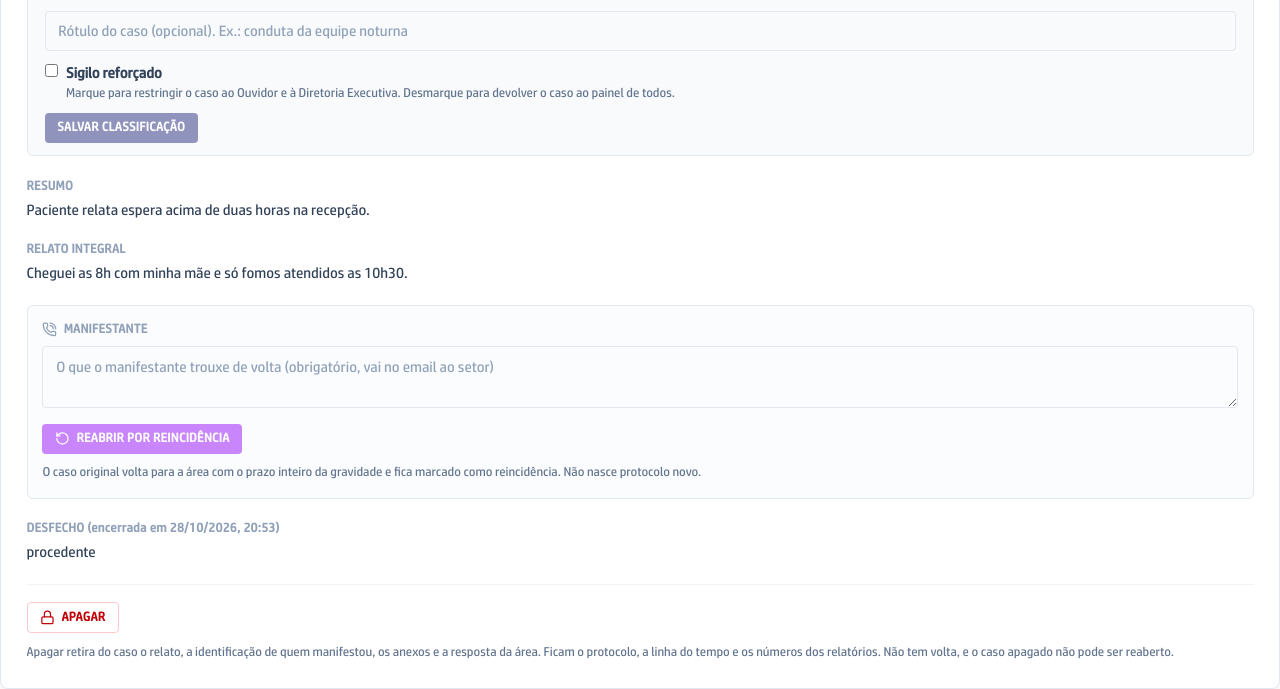
a confirmação com motivo obrigatório (issue #595) › o aviso do ato continua legível depois de o botão sair da tela
(page scrolled)
Click the button "Apagar". click: (73, 617)
box: [26, 602, 119, 633]
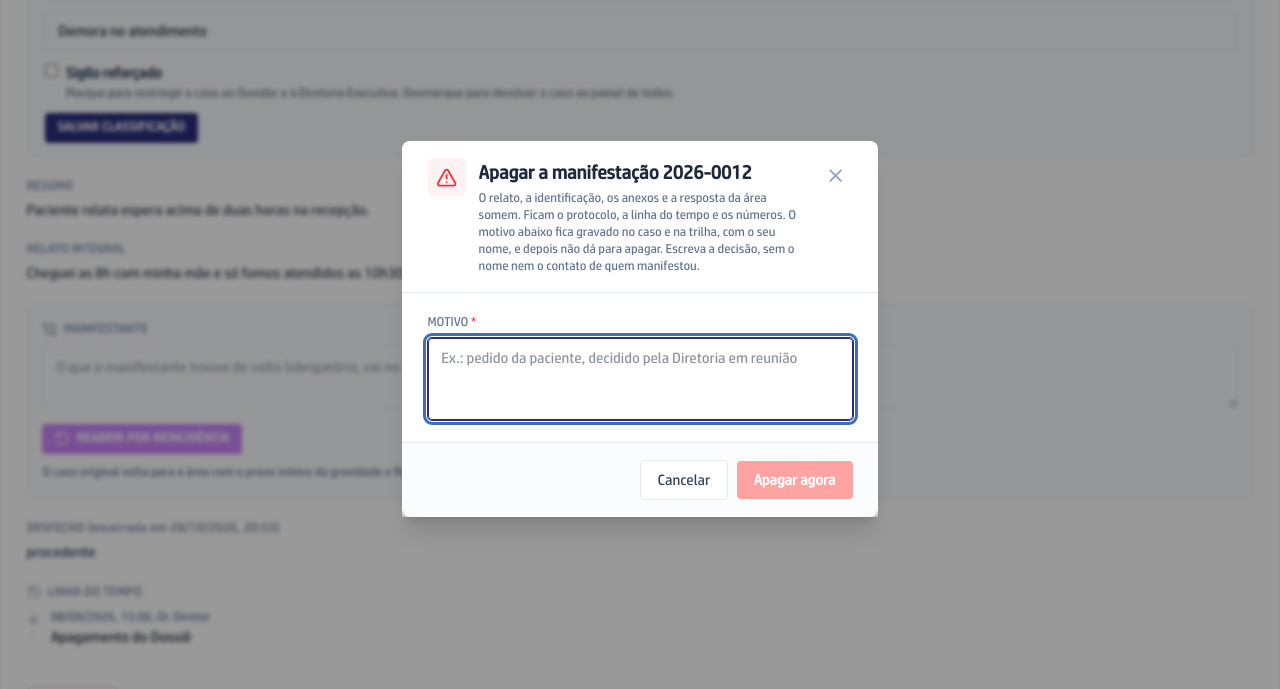
Type "Pedido da paciente, com decisão da Diretoria em 08/09/2026." into the text box labelled "Motivo *". click: (640, 379)
box: [428, 338, 852, 420]
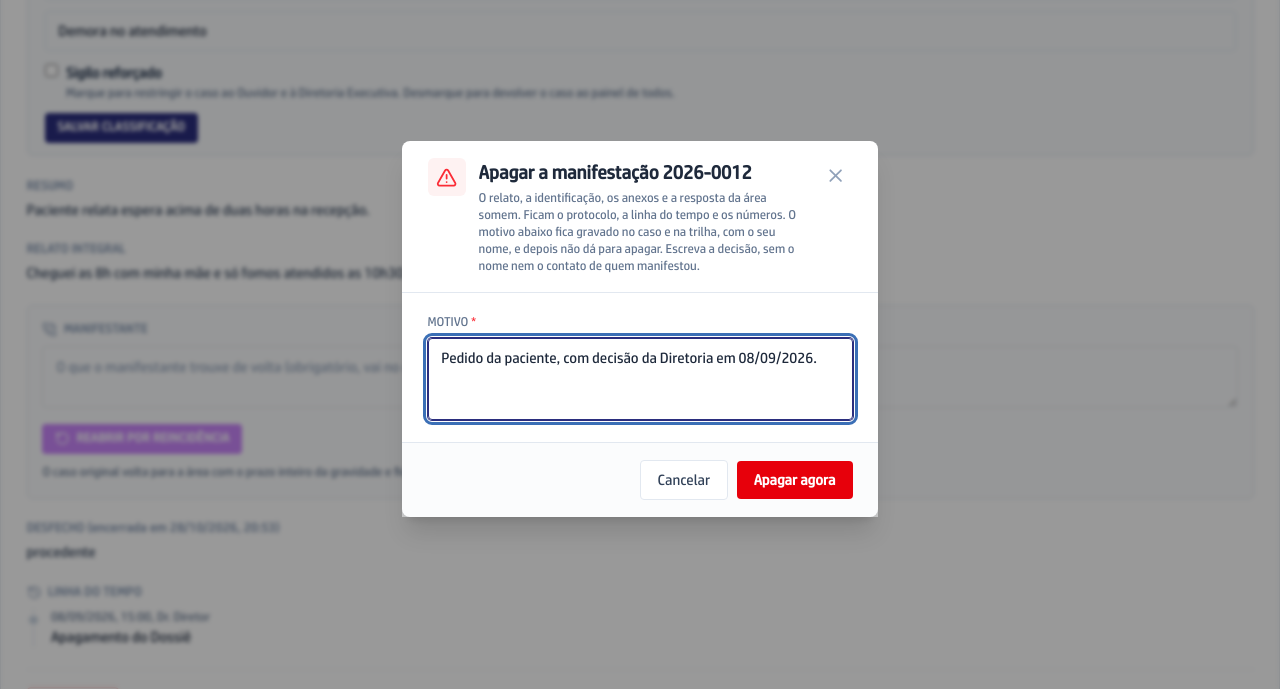
Click the button "Apagar agora". click: (795, 480)
box: [737, 461, 852, 499]
(page scrolled)
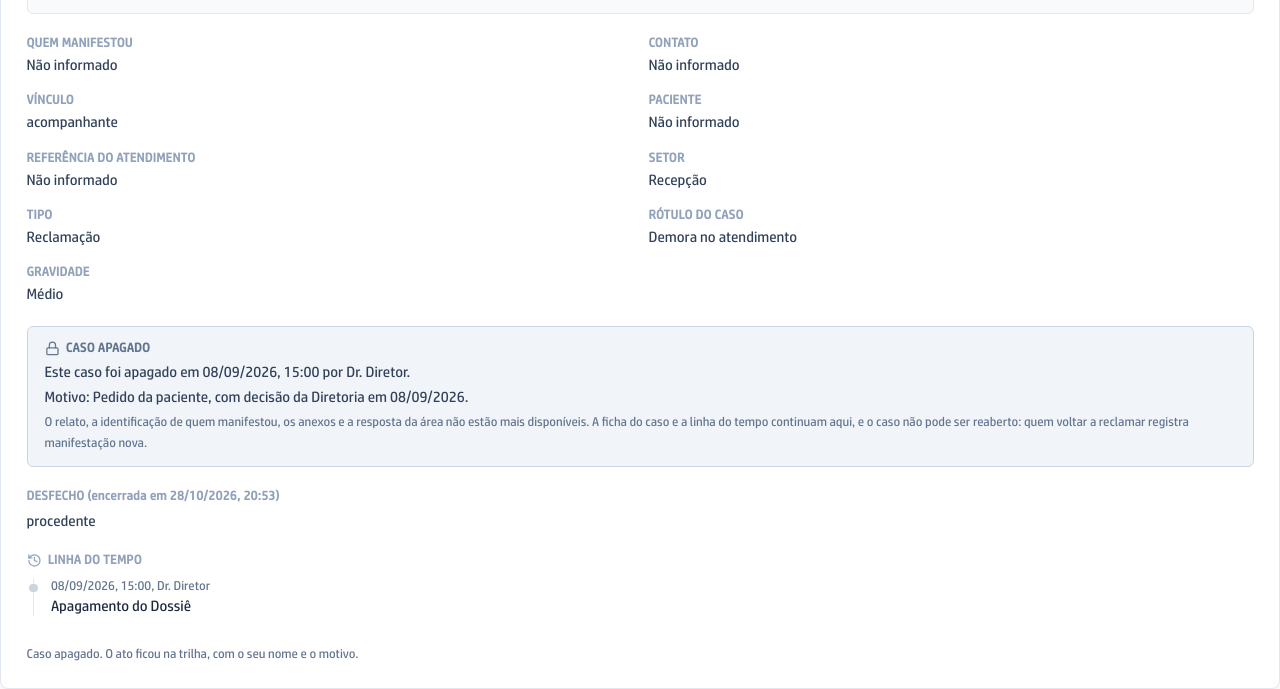
Now the text "Caso apagado." is shown, box [26, 646, 358, 660]
